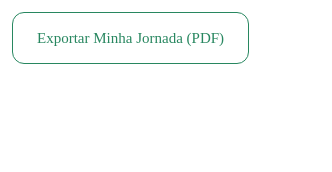
it: ExportJourneyButton › limpa o erro ao tentar de novo com sucesso
Click the button "Exportar Minha Jornada (PDF)". click: point(130, 38)
box: [12,12,249,64]
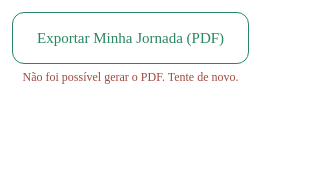
Expected: the text "Não foi possível gerar o PDF. Tente de novo." is shown, [12,70,249,85]
Click the button "Exportar Minha Jornada (PDF)". click: point(130, 38)
box: [12,12,249,64]
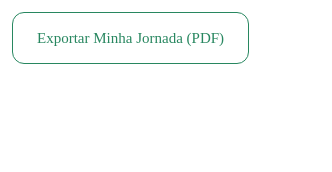
Expected: the text "Não foi possível gerar o PDF. Tente de novo." is gone
